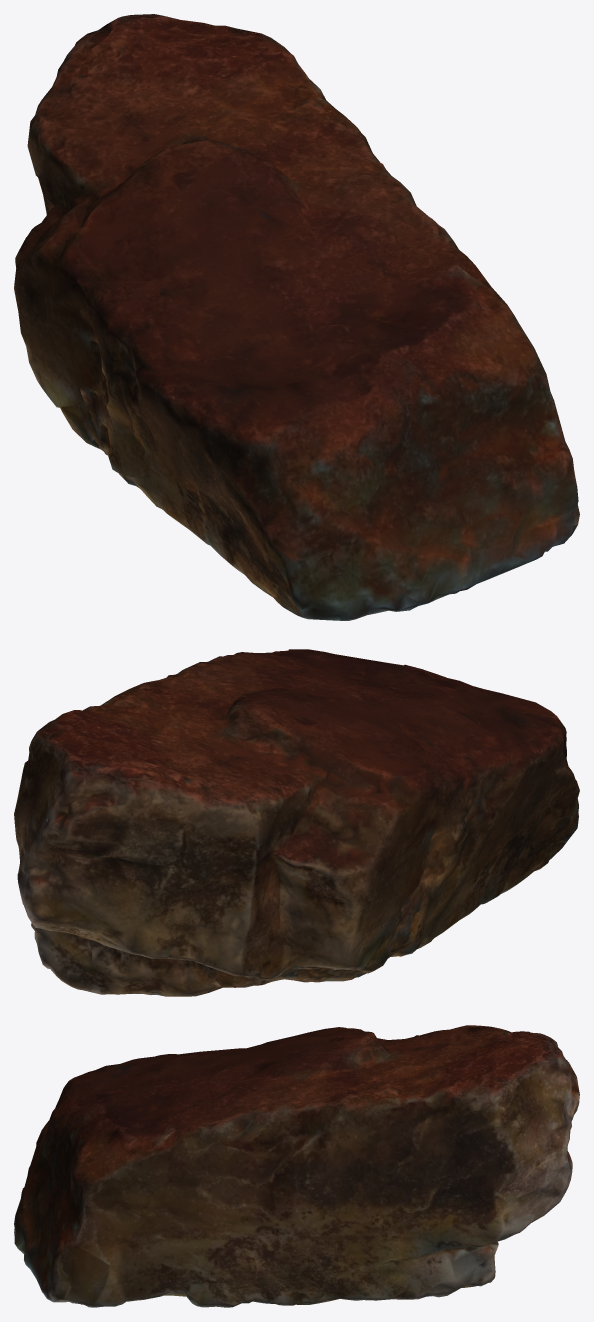
File: rock_07.glb
3 renders of one model, top to bottom at view 1: azimuth 30°, elevation 25°; view 2: azimuth 150°, elevation 25°; view 3: azimuth 270°, elevation 25°, orthographic. The views are drawn at different scales.
Parts seen in each view (by area): view 1: rock_07; view 2: rock_07; view 3: rock_07.
Boxes of the visible parts, <box> form: rock_07: <box>14,14,579,620</box>; rock_07: <box>14,649,579,996</box>; rock_07: <box>14,1025,579,1307</box>.
Size of the model in its own units: 0.1689 by 0.1437 by 0.3202.
1 material, 1 textured.
